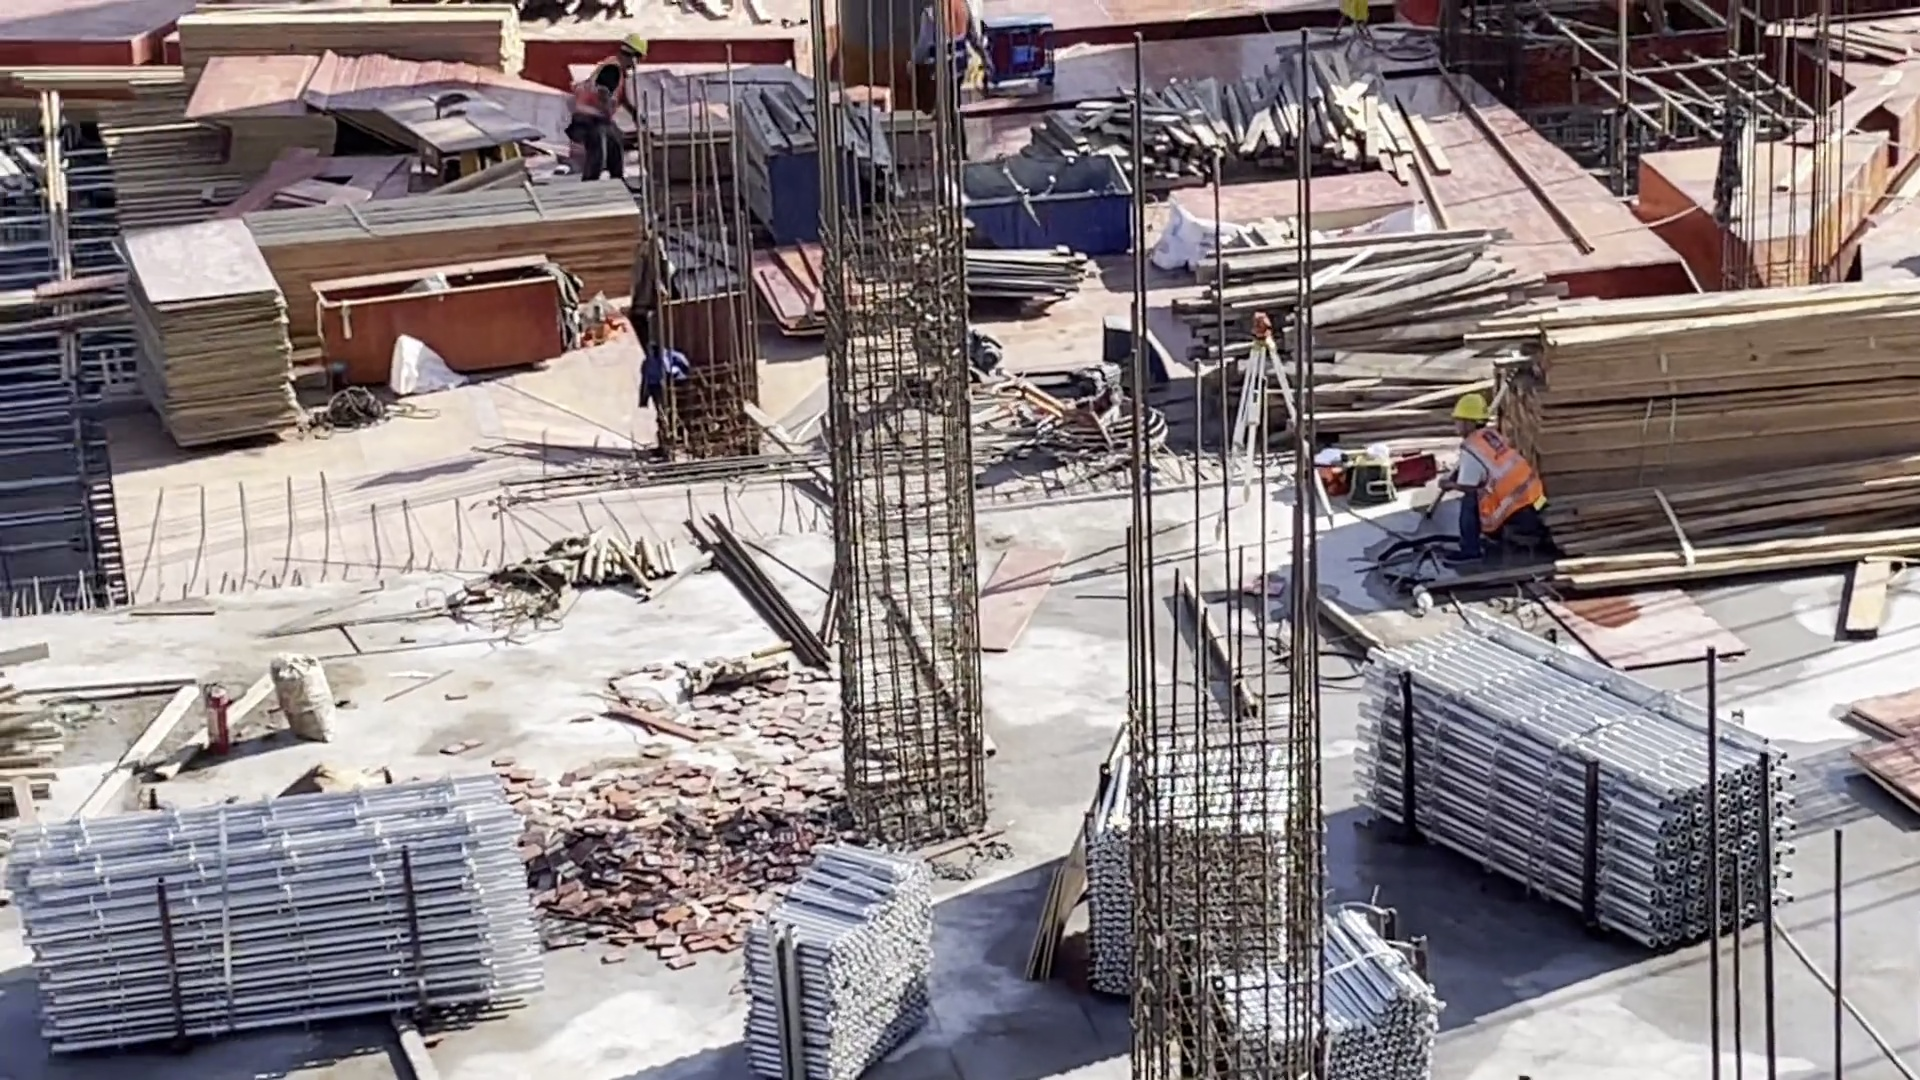board: (114, 217, 306, 453), (192, 52, 578, 153)
helmet: (1457, 394, 1488, 427), (621, 38, 648, 58)
hopper: (948, 151, 1133, 251)
person: (1452, 390, 1549, 565), (578, 34, 655, 180), (915, 1, 988, 154)
scaffold: (6, 778, 546, 1065), (1361, 604, 1799, 957), (1087, 715, 1437, 1080), (748, 846, 930, 1080)
vest: (1469, 435, 1540, 534), (577, 65, 624, 123), (928, 3, 970, 50)
wood: (1463, 265, 1920, 595), (1180, 224, 1507, 435), (1058, 59, 1439, 192), (244, 174, 646, 294), (173, 11, 517, 68)
